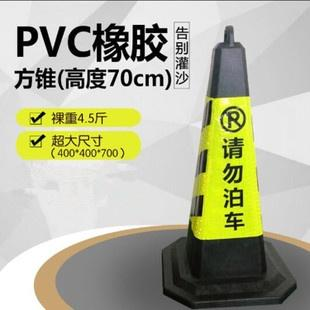cone_barrel: (172, 25, 277, 293)
